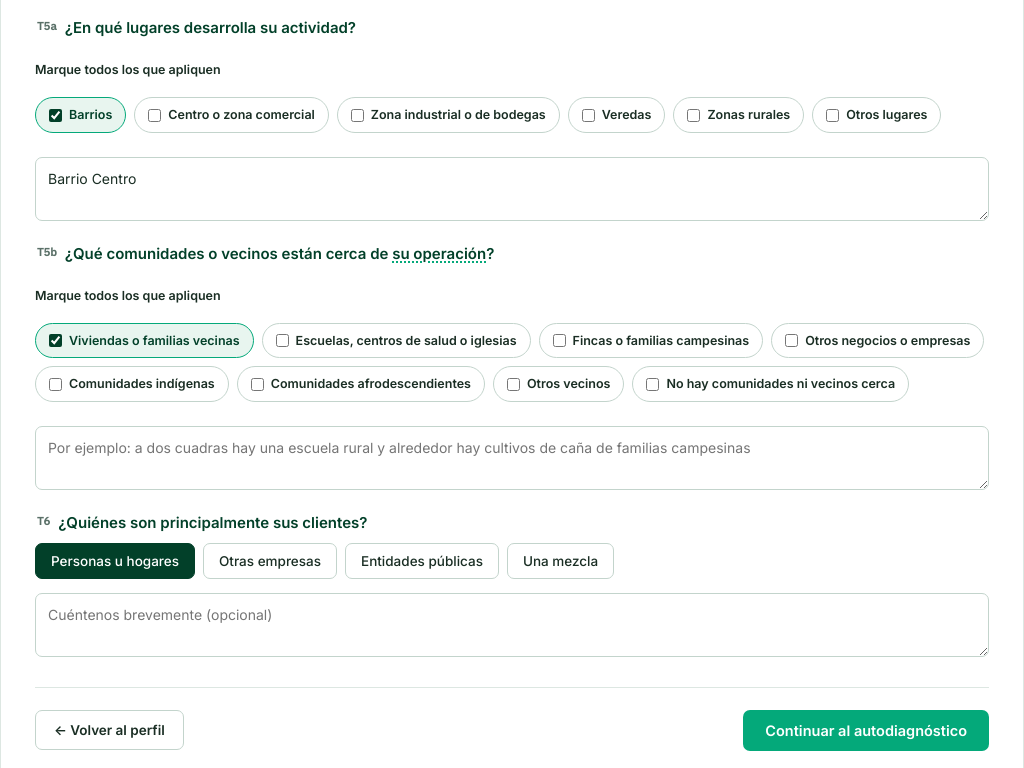
Test case: tamizaje: T5 dividida en dos preguntas › «No hay comunidades ni vecinos cerca» desmarca los demás vecinos
This screenshot has width=1024, height=768.
(page scrolled)
Click the checkbox labelled "No hay comunidades ni vecinos cerca": {"x": 653, "y": 384} [646,378,660,391]
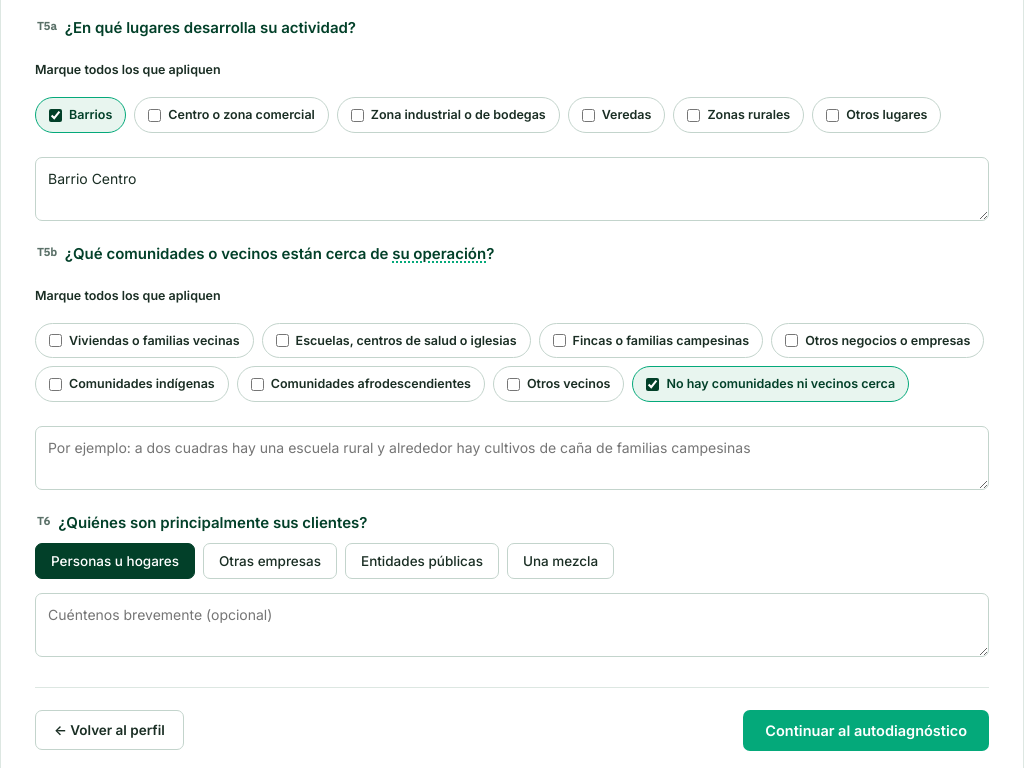
Check: the checkbox labelled "Barrios" is checked, box [49,108,62,122]
Check: the checkbox labelled "Viviendas o familias vecinas" is not checked, box [49,334,62,347]
